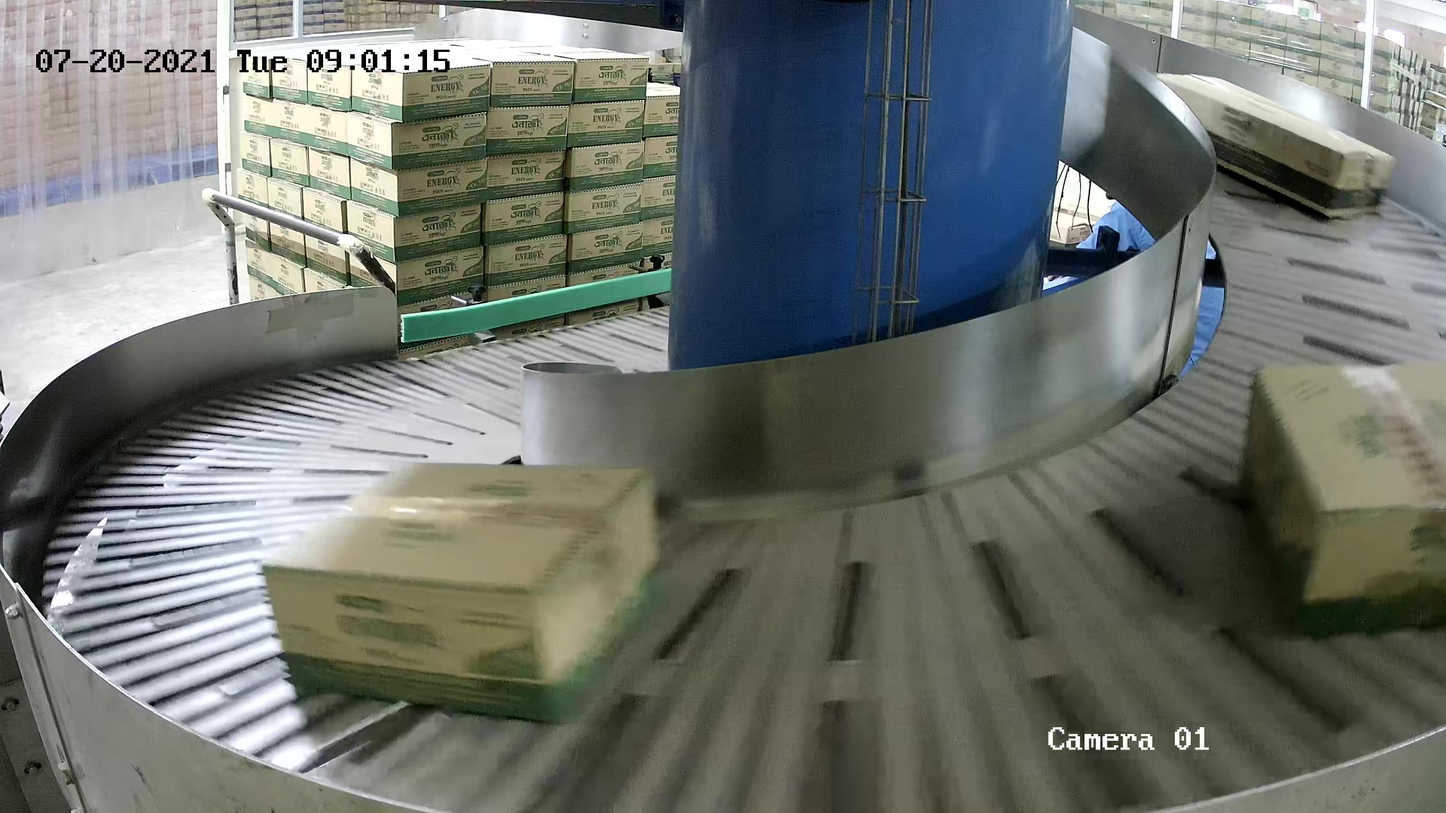Box: (261, 460, 671, 724), (1234, 361, 1446, 647), (1147, 72, 1396, 221)
